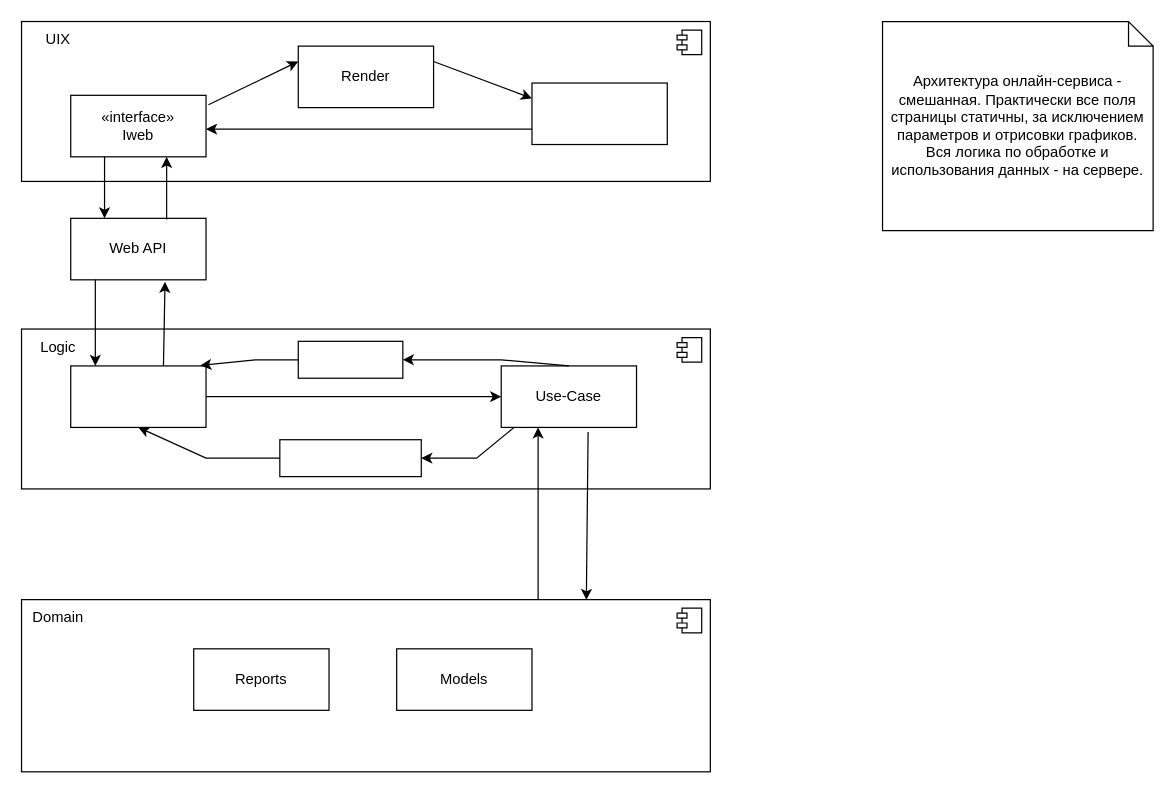
Some shapes in this 1175 by 793 pixel diagram are drawn without their labels. The centre of each missing label's shape, as x and y in pixels:
ChartAdapter: the point at 350,359
SpreadsheetAdapter: the point at 350,457
UI: the point at 599,113
«interface» IHandler: the point at 137,396
